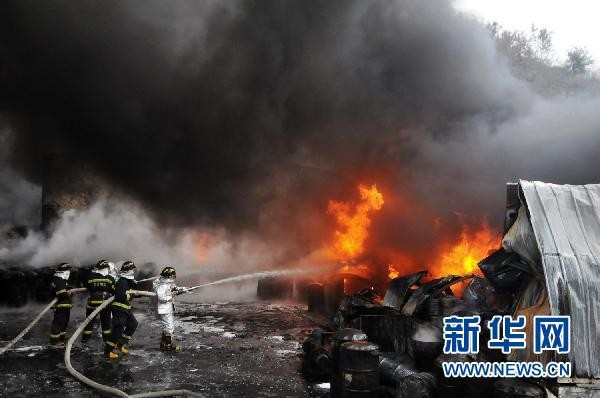fire: (329, 177, 387, 270), (432, 216, 508, 277)
